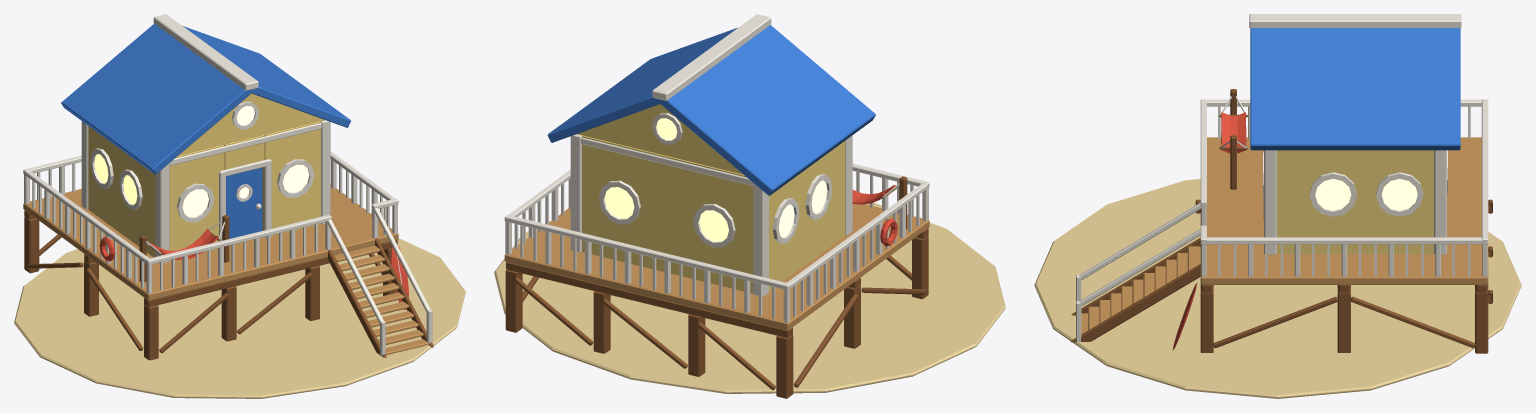
Rendered from stilt-beach-house.glb.
3 views of the same model, side by side, from view 1: azimuth 30°, elevation 25°; view 2: azimuth 150°, elevation 25°; view 3: azimuth 270°, elevation 25° (orthographic). The views are drawn at different scales.
Visible parts, largest first — view 1: Sand_Base, Roof, Walls, Deck, Railing, Stilts, Trim, Stairs, Balusters, Window_Frames, Door, Windows_Glow (+3 smaller); view 2: Sand_Base, Walls, Roof, Stilts, Deck, Railing, Trim, Balusters, Window_Frames, Windows_Glow; view 3: Sand_Base, Roof, Deck, Walls, Railing, Trim, Stilts, Stairs, Stair_Frame, Window_Frames, Windows_Glow, Balusters (+2 smaller).
Boxes of the visible parts, left/top/right/bottom form: Sand_Base: left=14, top=238, right=465, bottom=398; Roof: left=61, top=23, right=350, bottom=174; Walls: left=88, top=93, right=324, bottom=260; Deck: left=23, top=184, right=398, bottom=300; Railing: left=23, top=151, right=432, bottom=356; Stilts: left=24, top=210, right=397, bottom=360; Trim: left=81, top=14, right=330, bottom=263; Stairs: left=334, top=245, right=428, bottom=355; Balusters: left=32, top=163, right=389, bottom=290; Window_Frames: left=90, top=101, right=314, bottom=253; Door: left=226, top=167, right=262, bottom=238; Windows_Glow: left=94, top=106, right=309, bottom=217; Sand_Base: left=494, top=202, right=1005, bottom=393; Walls: left=577, top=104, right=845, bottom=293; Roof: left=547, top=25, right=875, bottom=195; Stilts: left=505, top=228, right=928, bottom=398; Deck: left=504, top=204, right=929, bottom=330; Railing: left=504, top=163, right=929, bottom=322; Trim: left=570, top=14, right=852, bottom=296; Balusters: left=514, top=172, right=919, bottom=318; Window_Frames: left=598, top=113, right=899, bottom=247; Windows_Glow: left=604, top=118, right=827, bottom=241; Sand_Base: left=1034, top=179, right=1521, bottom=398; Roof: left=1250, top=28, right=1460, bottom=150; Deck: left=1200, top=137, right=1488, bottom=284; Walls: left=1277, top=150, right=1433, bottom=253; Railing: left=1076, top=99, right=1488, bottom=342; Trim: left=1249, top=14, right=1461, bottom=254; Stilts: left=1195, top=199, right=1492, bottom=353; Stairs: left=1081, top=246, right=1200, bottom=334; Stair_Frame: left=1070, top=238, right=1200, bottom=342; Window_Frames: left=1220, top=96, right=1447, bottom=216; Windows_Glow: left=1315, top=178, right=1417, bottom=210; Balusters: left=1218, top=106, right=1470, bottom=276.
Bounding box in the file's own units: 48 × 26.92 × 44.
